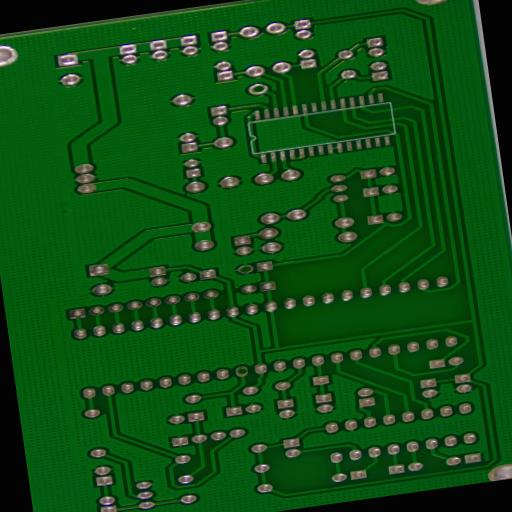missing_hole: (248, 81, 268, 95), (236, 263, 255, 274), (235, 364, 249, 376)
